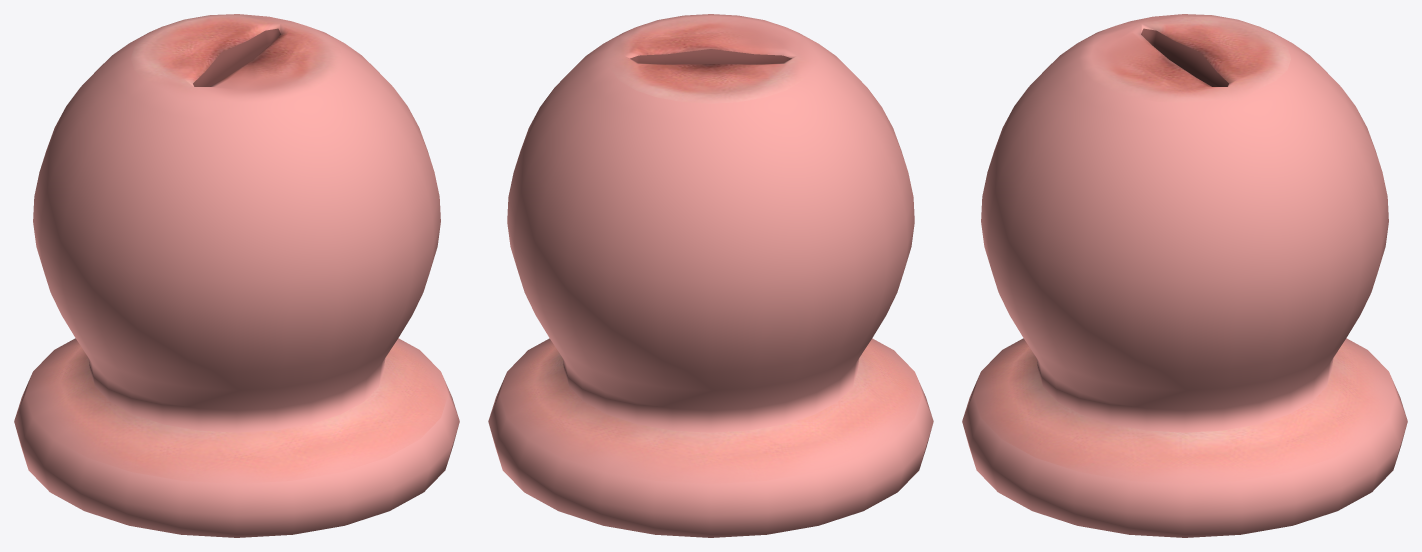
Rendered from cervix.fbx.
3 views of the same model, side by side, from view 1: azimuth 30°, elevation 25°; view 2: azimuth 150°, elevation 25°; view 3: azimuth 270°, elevation 25° (orthographic).
Parts seen in each view (by area): view 1: pSphere3; view 2: pSphere3; view 3: pSphere3.
Part boxes in pixels (box(x1,y1,x2,y2)): pSphere3: box(14, 14, 459, 537); pSphere3: box(488, 14, 933, 537); pSphere3: box(962, 14, 1407, 537).
Size of the model in its own units: 12.92 by 12.79 by 12.92.
Materials: 1 (1 with a texture image).
